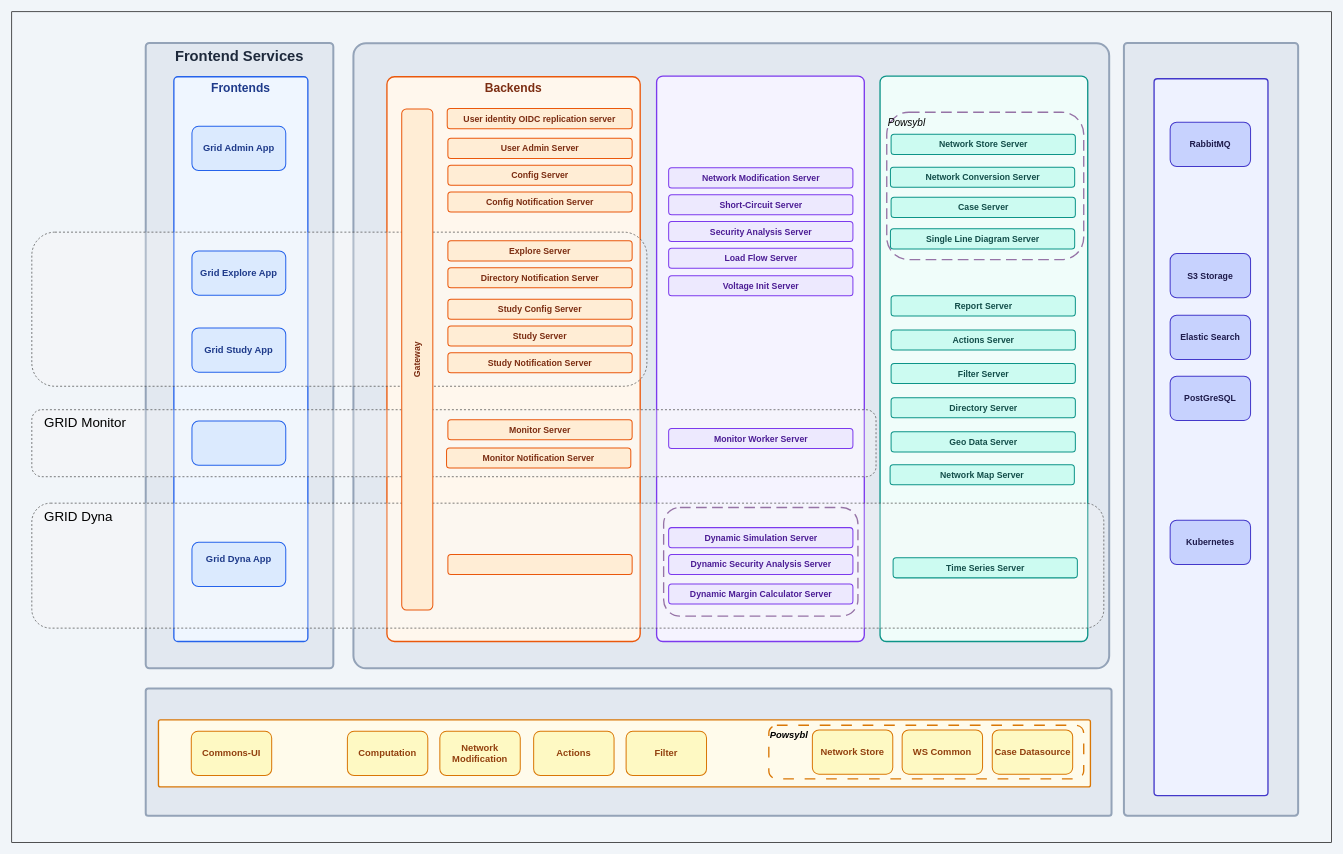
The diagram is 1343 pixels wide and 854 high, and some of its shapes have lost their labels. The shapes that lost their labels are listed below. From the top down, each one's box as (x1, y1, x2, y2) in pixels, then its label:
(31, 231, 647, 386): GRID Study
(352, 42, 1110, 669): Backend Services
(656, 75, 865, 642): Compute Services
(879, 75, 1088, 642): Data services
(191, 420, 286, 466): Grid Monitor App
(1123, 42, 1299, 816): Infrastructure
(447, 554, 632, 575): Dyna Mapping Server
(663, 507, 858, 616): Dynawo Wrappers
(144, 687, 1112, 816): Librairies
